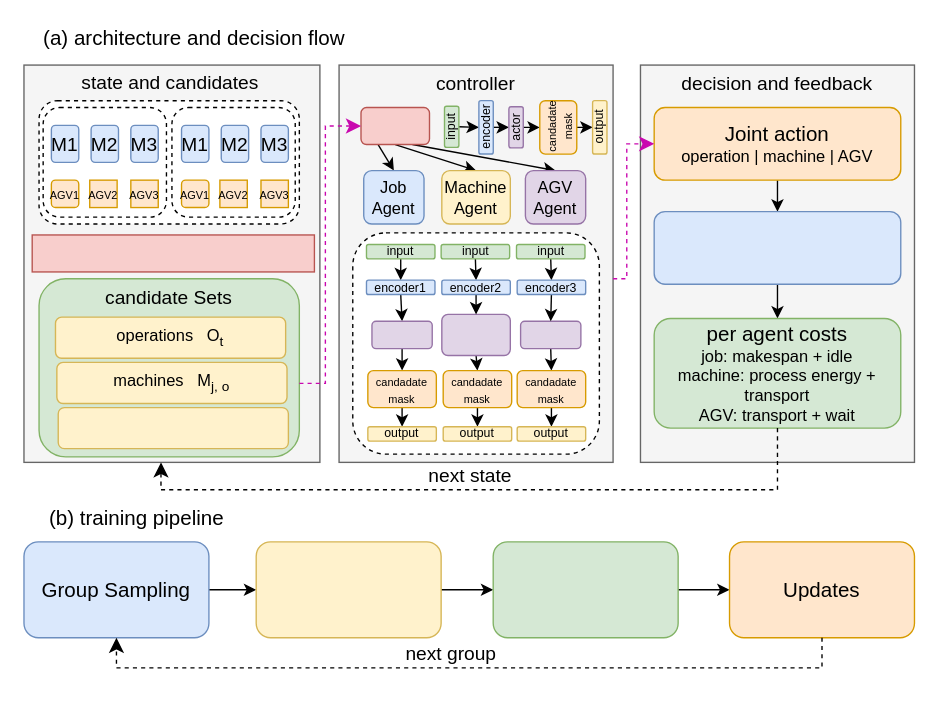
This 938x706 diagram has some shape labels left out. Each missing label, with the centre of its shape:
"AGV actor" belongs at point (550, 334).
"AGVs A w" belongs at point (172, 427).
"job actor" belongs at point (401, 334).
"Job state Machine state AGV state" belongs at point (172, 253).
"machine actor" belongs at point (475, 334).
"Rollout" belongs at point (348, 589).
"Rule Select Agent" belongs at point (394, 125).
"Segment close" belongs at point (585, 589).
"shop update assignment | sequences AGV routes" belongs at point (777, 247).
